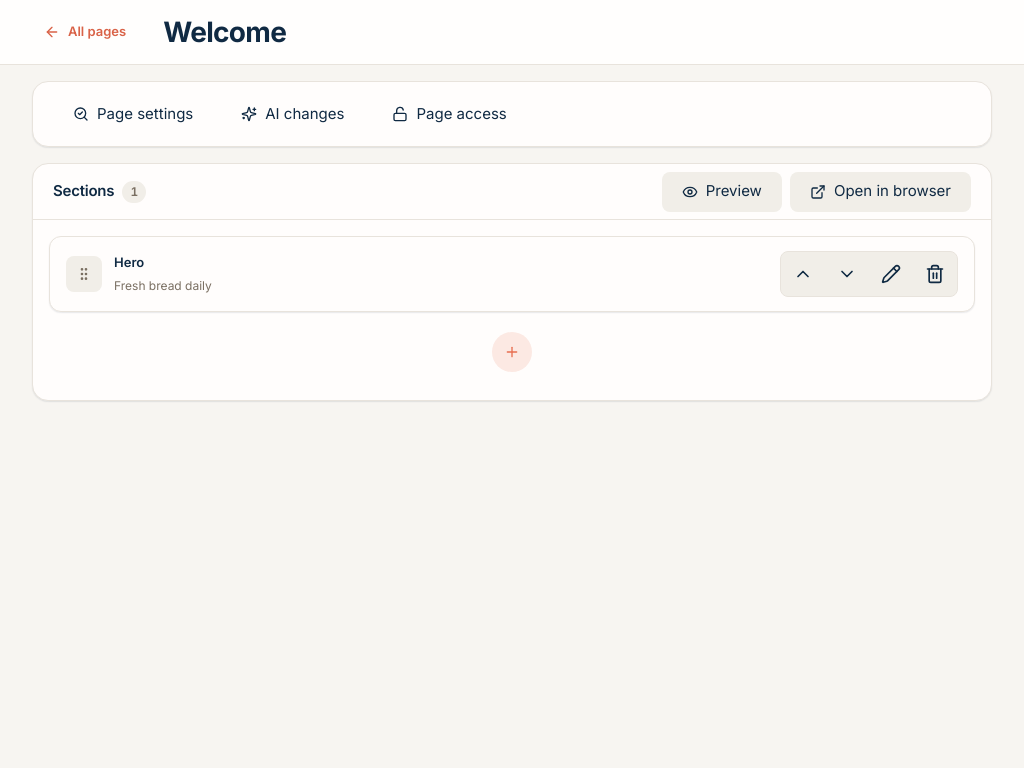
search and sharing details › the visible page action saves both overrides through the page route
The width and height of the screenshot is (1024, 768).
Step 1. Click the button "Page settings" → (133, 114), box [53, 94, 213, 134]
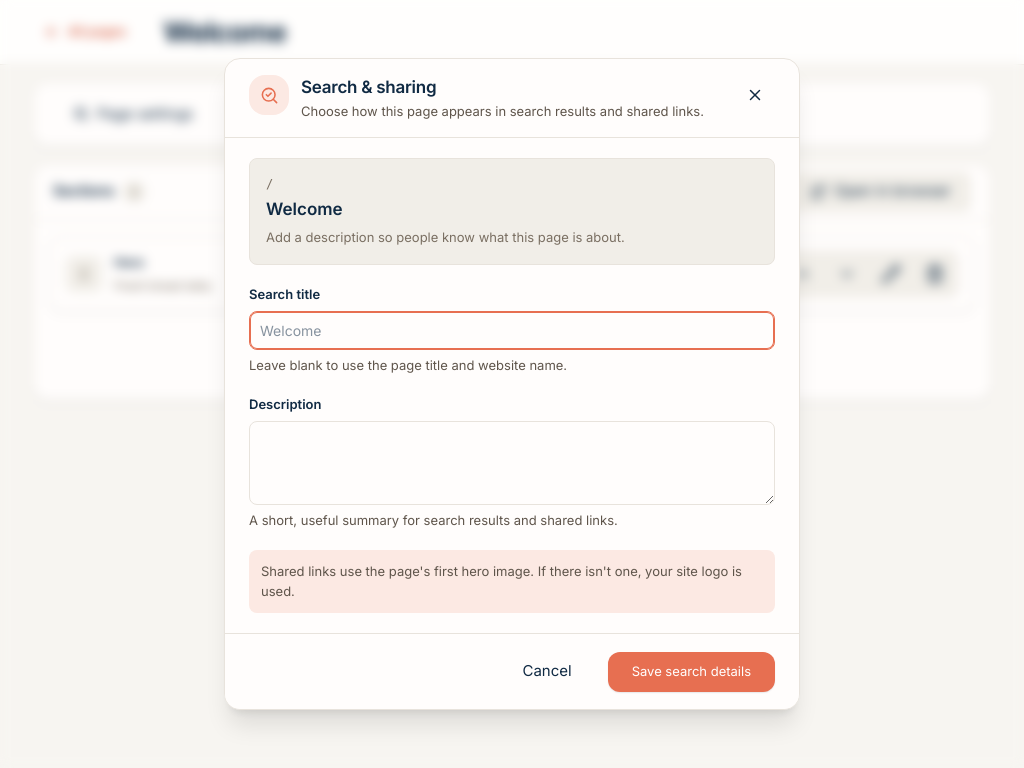
Expected: the element named "Search result preview" is shown, [249, 158, 775, 265]
Step 2. Type "  Bread delivered today  " into the field labelled "Search title" → (512, 330), box [249, 311, 775, 350]
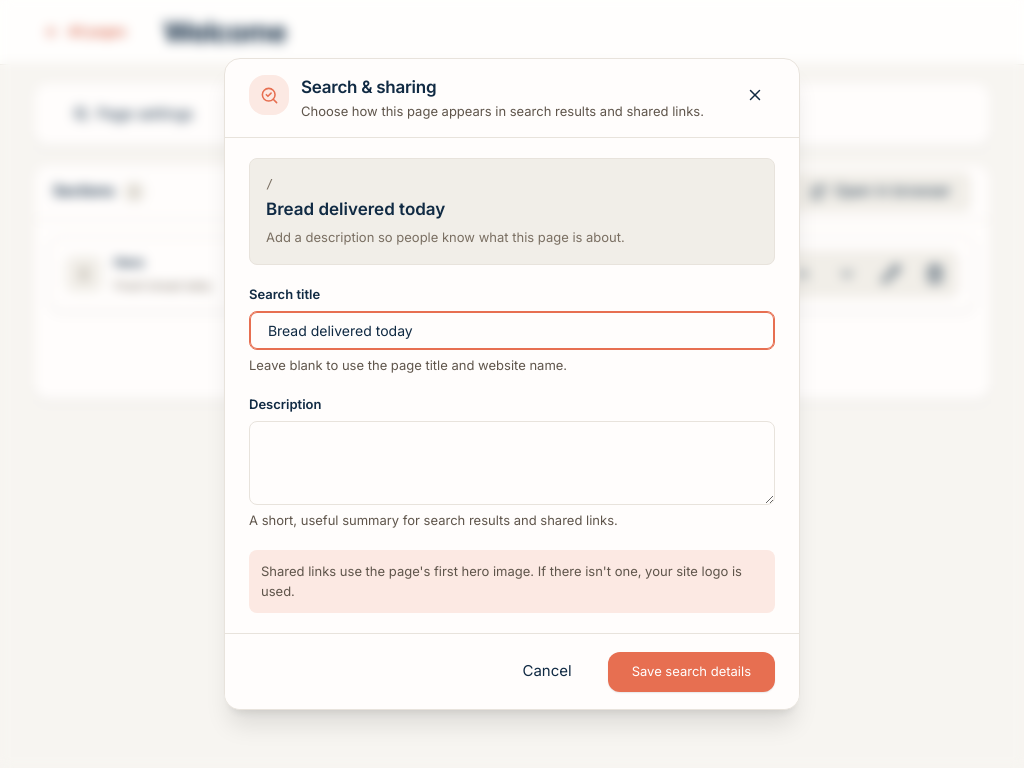
Step 3. Type "  Warm loaves from our neighbourhood bakery.  " into the text box labelled "Description" → (512, 463), box [249, 421, 775, 505]
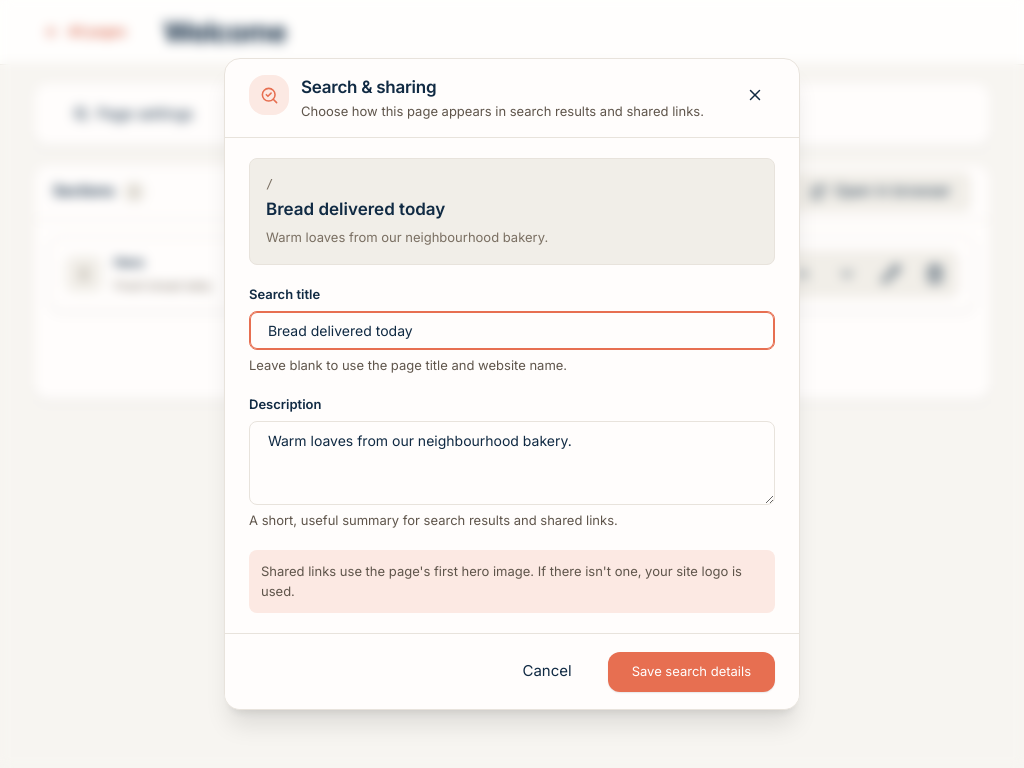
Step 4. Click the button "Save search details" → (691, 672), box [608, 652, 775, 692]
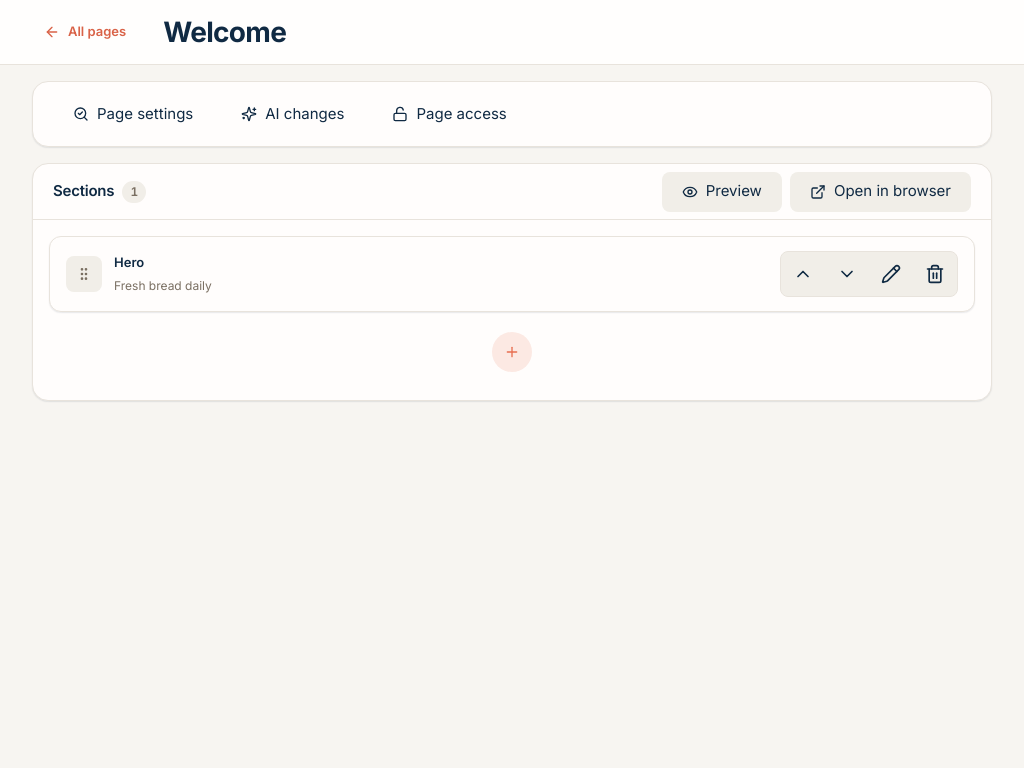
Expected: the dialog is gone
